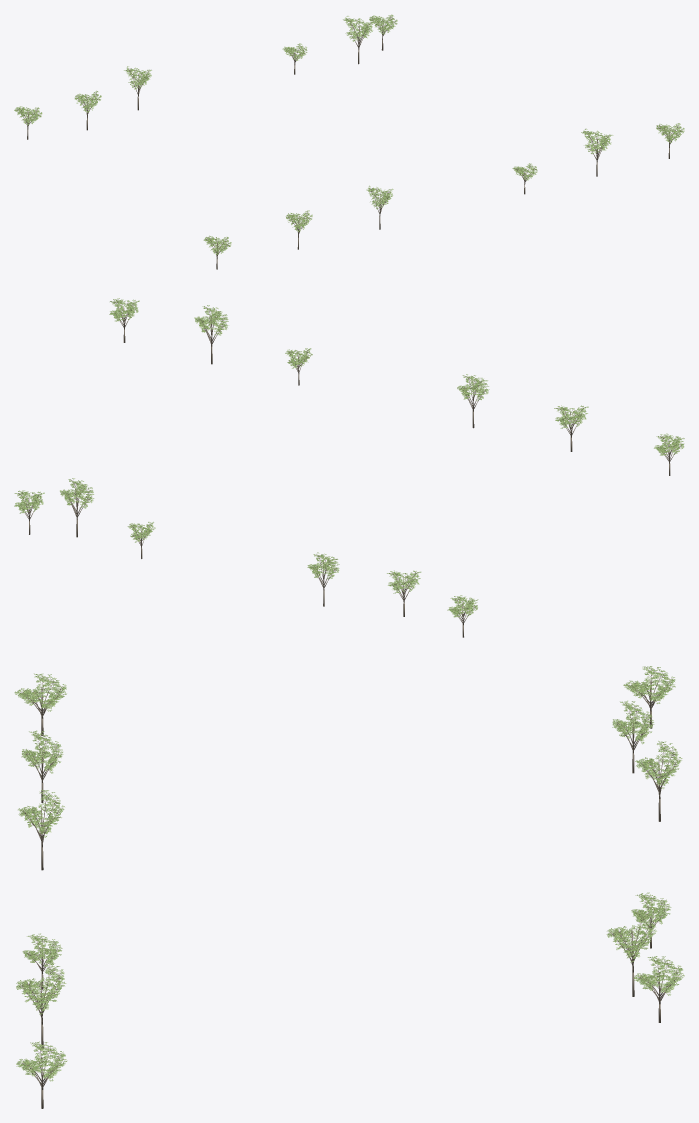
The model's file is 20261104-public-planting-0.glb.
The picture shows the model from 3 angles, top to bottom: view 1: azimuth 30°, elevation 25°; view 2: azimuth 150°, elevation 25°; view 3: azimuth 270°, elevation 25°; orthographic projection. The views are drawn at different scales.
Bounding box in the file's own units: 107 × 9.7 × 76.07.
